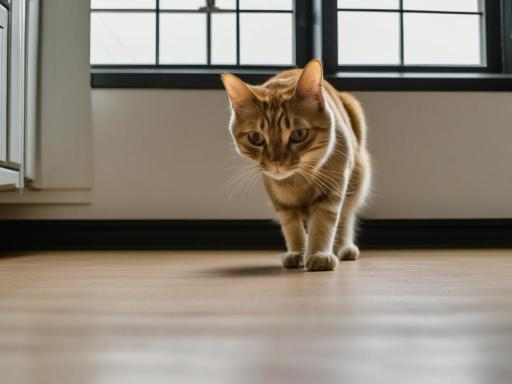cat_standing: (222, 60, 370, 270)
